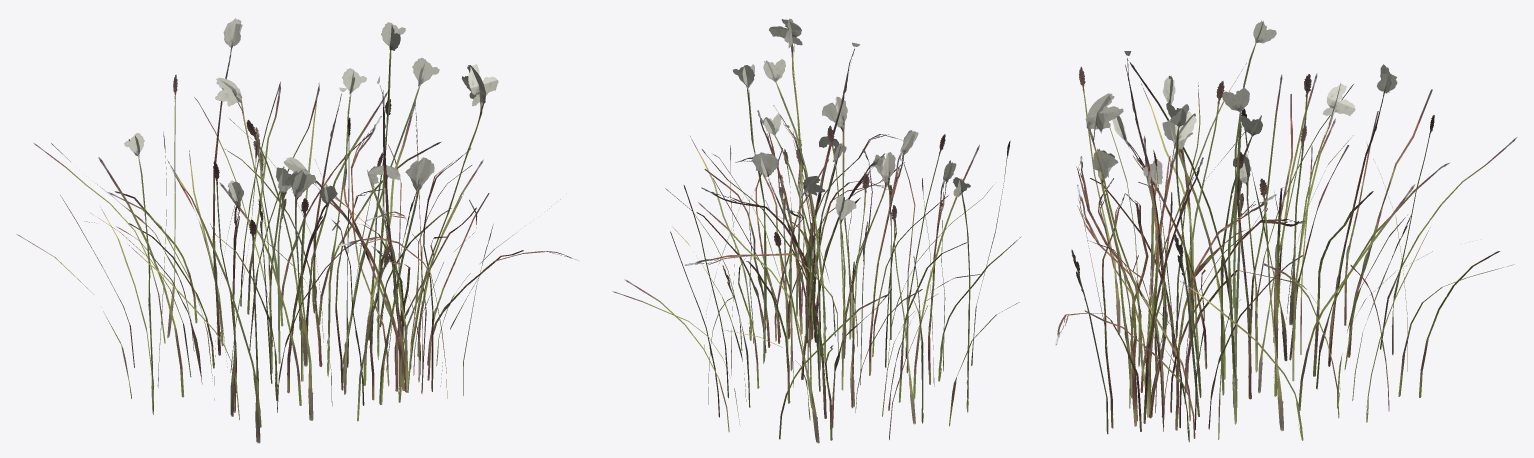
The picture shows the model from 3 angles, left to right: view 1: azimuth 30°, elevation 25°; view 2: azimuth 150°, elevation 25°; view 3: azimuth 270°, elevation 25°; orthographic projection. The views are drawn at different scales.
Visible parts, largest first — view 1: ot_lod1; view 2: ot_lod1; view 3: ot_lod1.
Boxes of the visible parts, <box> form: ot_lod1: <box>16,18,578,443</box>; ot_lod1: <box>612,18,1021,443</box>; ot_lod1: <box>1055,20,1517,442</box>.
Bounding box in the file's own units: 1.21 × 0.8426 × 0.9952.
Materials: 1 (1 with a texture image).
